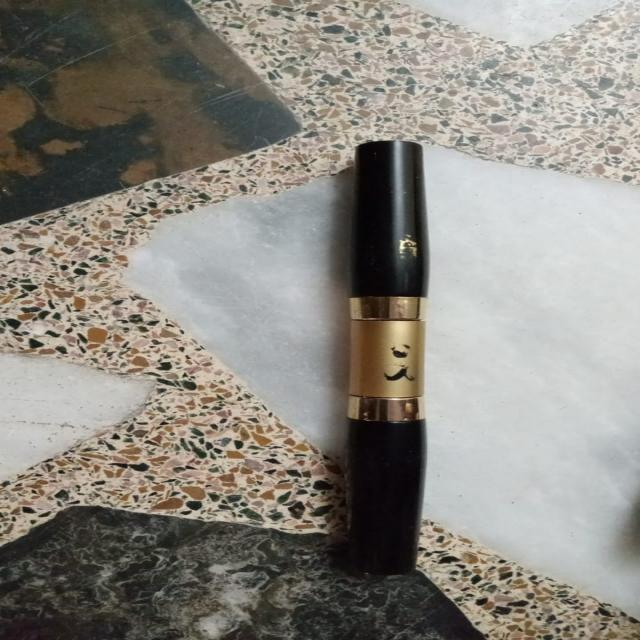mascara: (309, 125, 477, 590)
